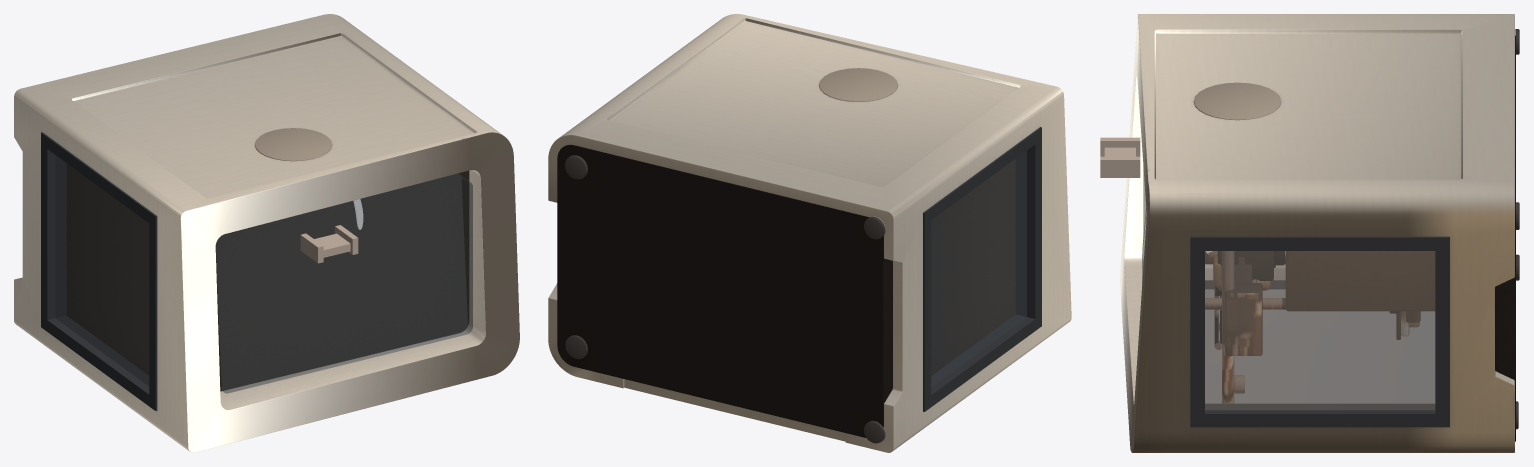
File: deltrol_p2s_explorer_v38.glb
3 views of the same model, side by side, from view 1: azimuth 30°, elevation 25°; view 2: azimuth 150°, elevation 25°; view 3: azimuth 270°, elevation 25° (orthographic). The views are drawn at different scales.
Visible parts, largest first — view 1: unibody_shell, top_roof_glass, interior_ceiling_liner, left_glass_window, interior_left_back_baffle, left_window_gasket, rear_exhaust_shroud, upper_gantry_rail_assembly; view 2: unibody_shell, chassis_recessed_plinth, left_glass_window, interior_left_back_baffle, left_window_gasket, rear_exhaust_shroud; view 3: unibody_shell, right_glass_sheen, right_glass_window, front_glass_door, right_window_gasket, interior_rear_electronics_box, x_gantry_crossbeam, rear_exhaust_shroud, chassis_recessed_plinth, x_guide_front, upper_gantry_rail_assembly, toolhead_chassis.
Part boxes in pixels (x1,y1,x2,y2): unibody_shell: (14, 14, 519, 452); top_roof_glass: (215, 173, 472, 393); interior_ceiling_liner: (215, 170, 469, 391); left_glass_window: (55, 155, 149, 386); interior_left_back_baffle: (66, 163, 149, 375); left_window_gasket: (41, 132, 157, 410); rear_exhaust_shroud: (255, 128, 332, 161); upper_gantry_rail_assembly: (300, 225, 358, 263); unibody_shell: (548, 14, 1071, 452); chassis_recessed_plinth: (557, 144, 892, 437); left_glass_window: (931, 150, 1026, 386); interior_left_back_baffle: (931, 159, 1015, 375); left_window_gasket: (923, 127, 1041, 411); rear_exhaust_shroud: (818, 68, 897, 101); unibody_shell: (1120, 14, 1514, 452); right_glass_sheen: (1205, 251, 1434, 409); right_glass_window: (1205, 251, 1434, 409); front_glass_door: (1205, 285, 1434, 402); right_window_gasket: (1190, 236, 1449, 427); interior_rear_electronics_box: (1205, 251, 1434, 310); x_gantry_crossbeam: (1225, 257, 1262, 355); rear_exhaust_shroud: (1193, 82, 1281, 120); chassis_recessed_plinth: (1495, 35, 1515, 441); x_guide_front: (1205, 251, 1399, 403); upper_gantry_rail_assembly: (1100, 137, 1140, 177); toolhead_chassis: (1218, 251, 1273, 280).
Size of the model in its own units: 0.426 by 0.2955 by 0.4005.
19 materials, 14 textured.
